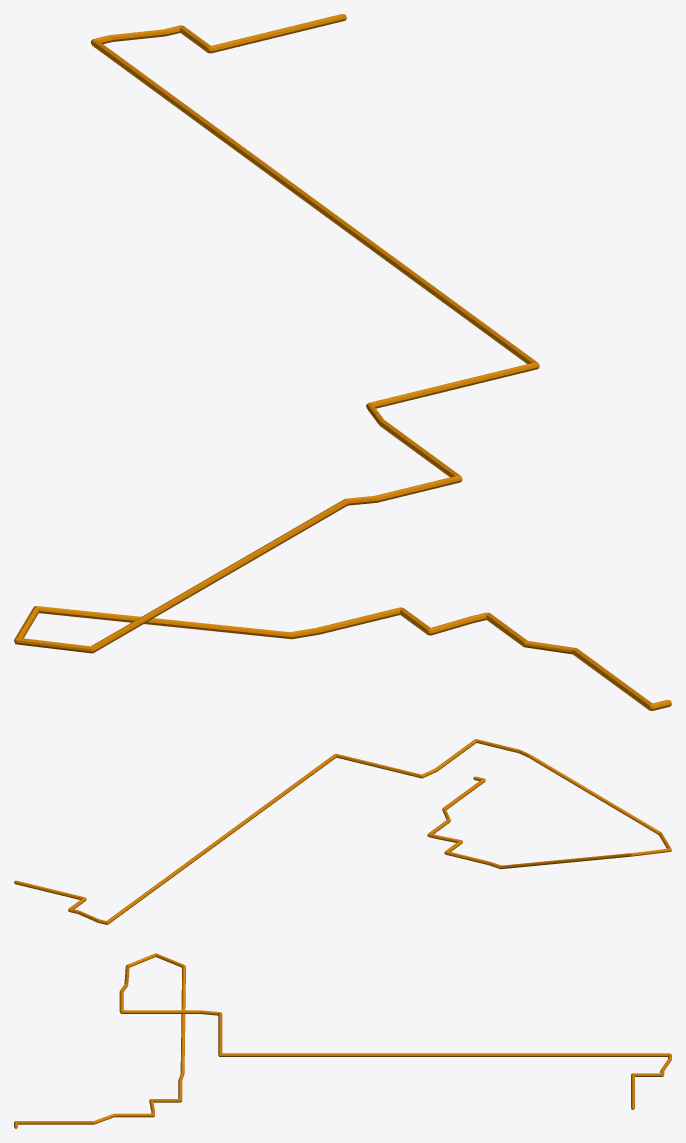
3 views of the same model, one above another, from view 1: azimuth 30°, elevation 25°; view 2: azimuth 150°, elevation 25°; view 3: azimuth 270°, elevation 25° (orthographic). The views are drawn at different scales.
Bounding box in the file's own units: 2407 × 520 × 3365.
